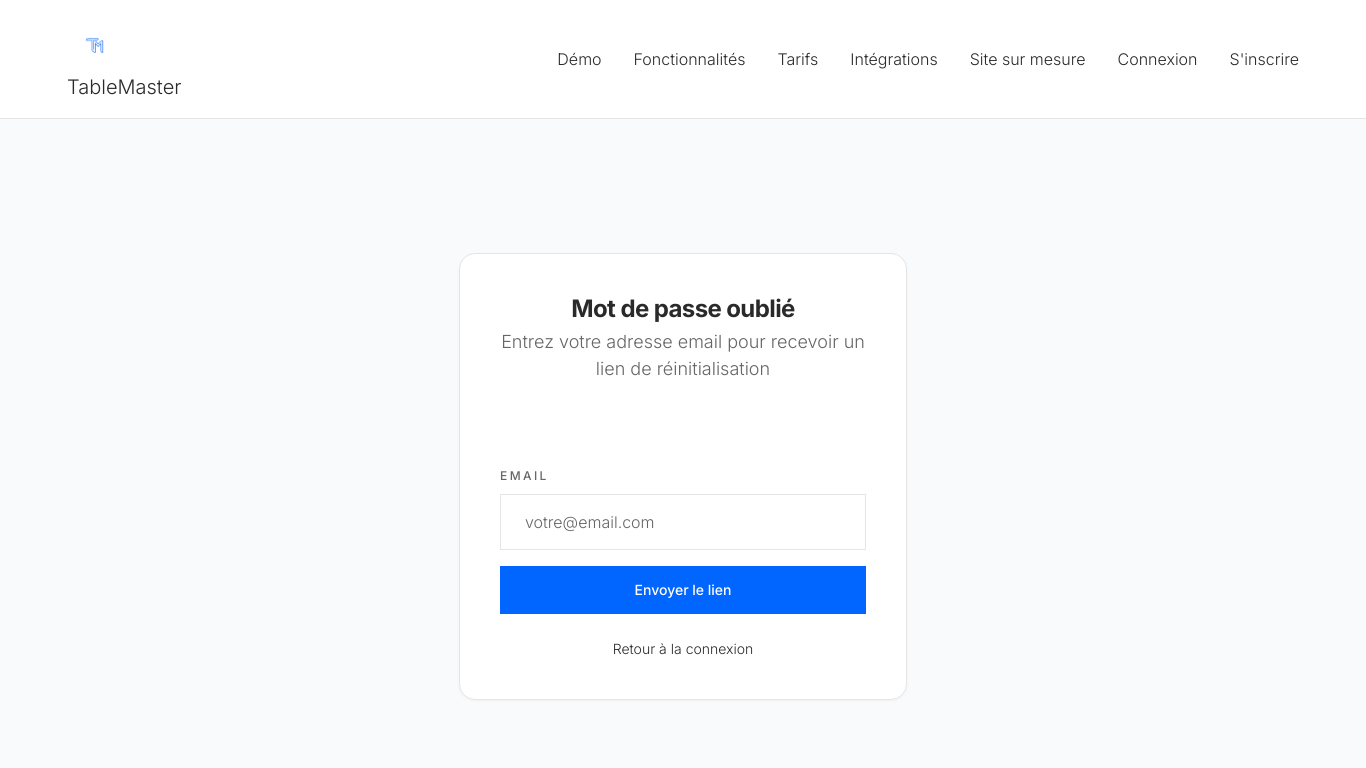
it: Forgot Password Page › should handle successful email submission
Type "test@example.com" into the field with placeholder "votre@email.com".
click(683, 522); type("test@example.com")  # box [500,494,866,550]
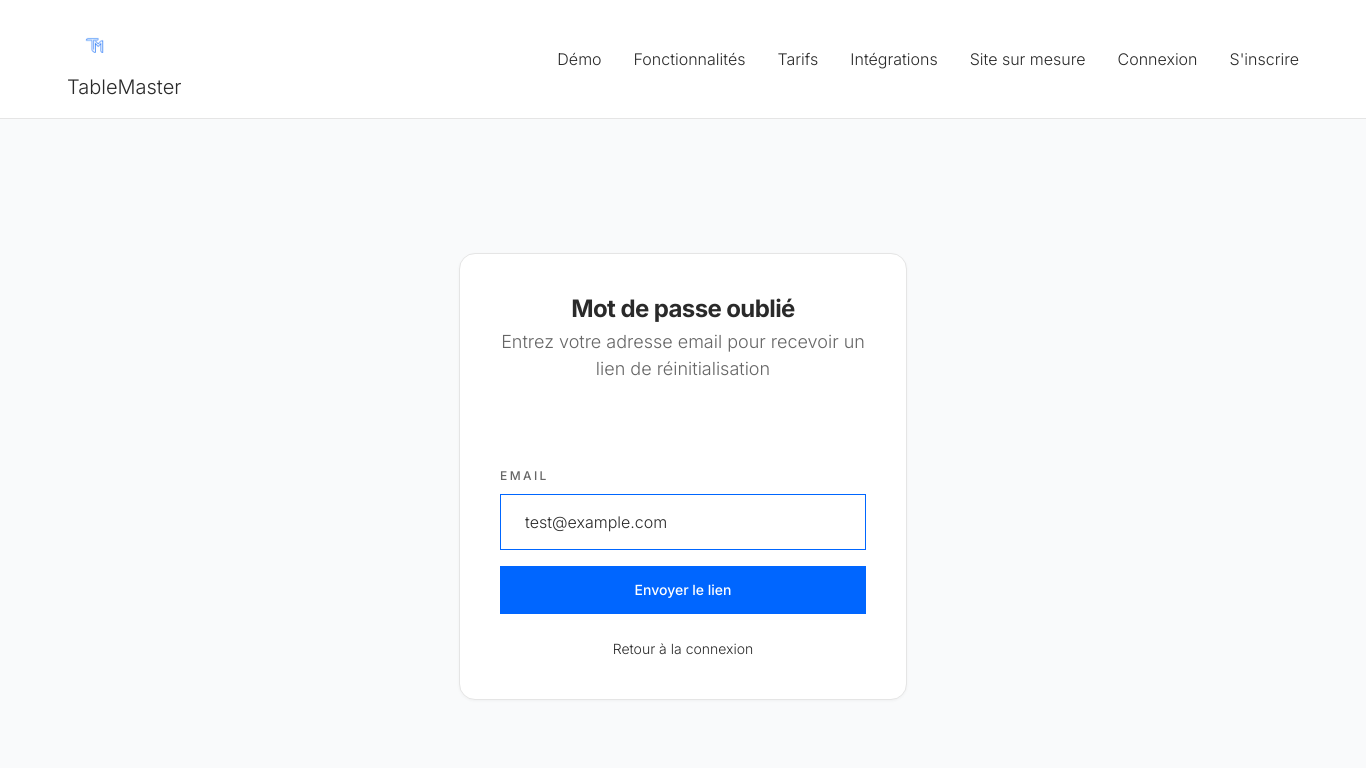
Submit the form with test id "forgot-password-form", box [500,462,866,614]
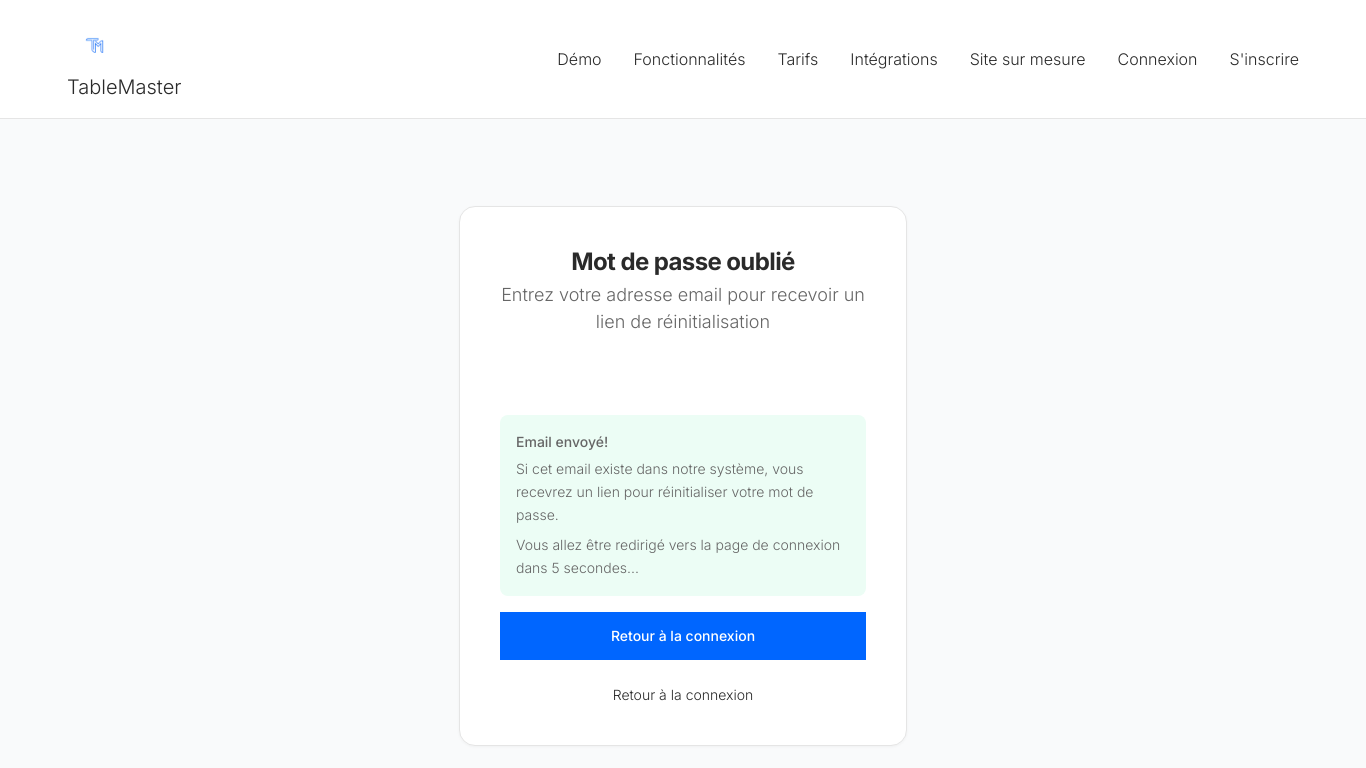
Now the text "Email envoyé!" is shown, box [516,433,608,450]
Now the text "Vous allez être redirigé" is shown, box [516,536,840,576]
